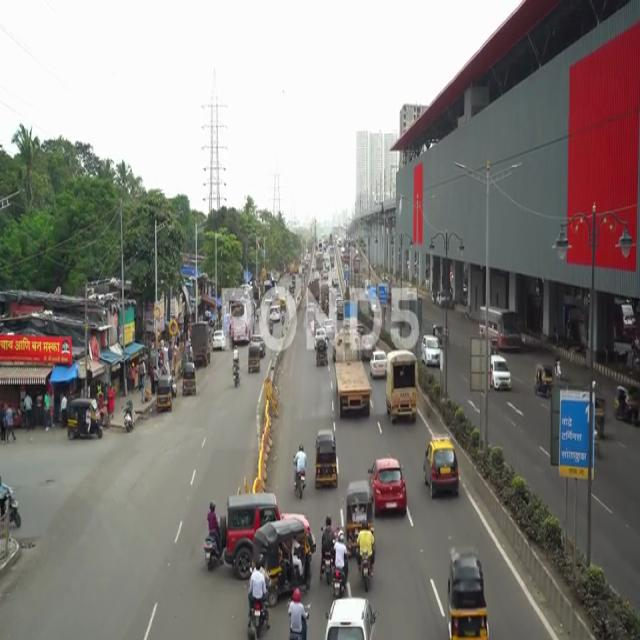car: (368, 451, 411, 522), (422, 434, 460, 497), (492, 356, 514, 396)
motorbike: (205, 488, 229, 568), (355, 512, 378, 591), (245, 562, 269, 637), (331, 524, 347, 600), (293, 437, 309, 505)
rikshaw: (447, 555, 490, 640), (315, 427, 341, 491)
